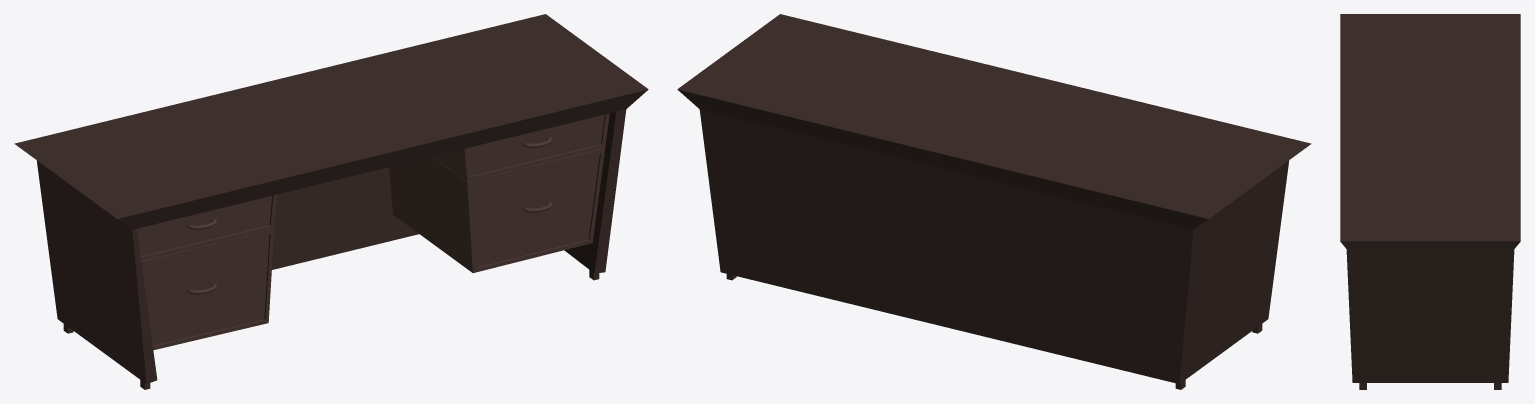
Rendered from desk (1).glb.
3 renders of one model, left to right at view 1: azimuth 30°, elevation 25°; view 2: azimuth 150°, elevation 25°; view 3: azimuth 270°, elevation 25°, orthographic. The views are drawn at different scales.
Parts seen in each view (by area): view 1: Desk, Drawer2.001, Drawer2.002, Drawer, Drawer.001; view 2: Desk; view 3: Desk.
Boxes of the visible parts, x1,y1,x2,y2 form: Desk: [14, 14, 648, 389]; Drawer2.001: [389, 148, 604, 272]; Drawer2.002: [141, 229, 274, 350]; Drawer: [433, 113, 609, 181]; Drawer.001: [137, 194, 276, 260]; Desk: [677, 14, 1311, 389]; Desk: [1340, 14, 1520, 389].
Bounding box in the file's own units: 16.45 × 5.57 × 5.52.
